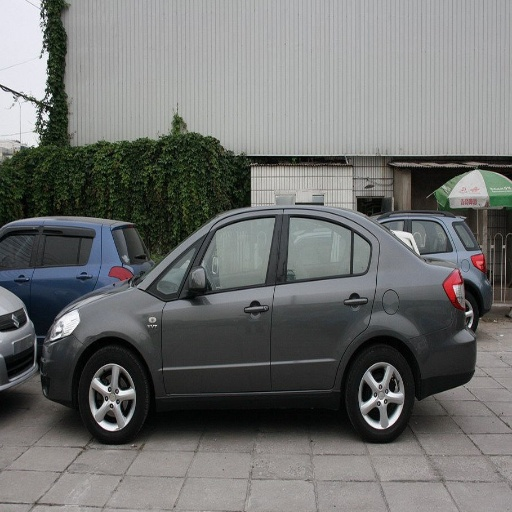back_bumper: (420, 342, 473, 391)
back_glass: (389, 219, 466, 260)
back_left_door: (271, 209, 377, 389), (42, 229, 93, 278)
front_left_door: (163, 211, 282, 393)
